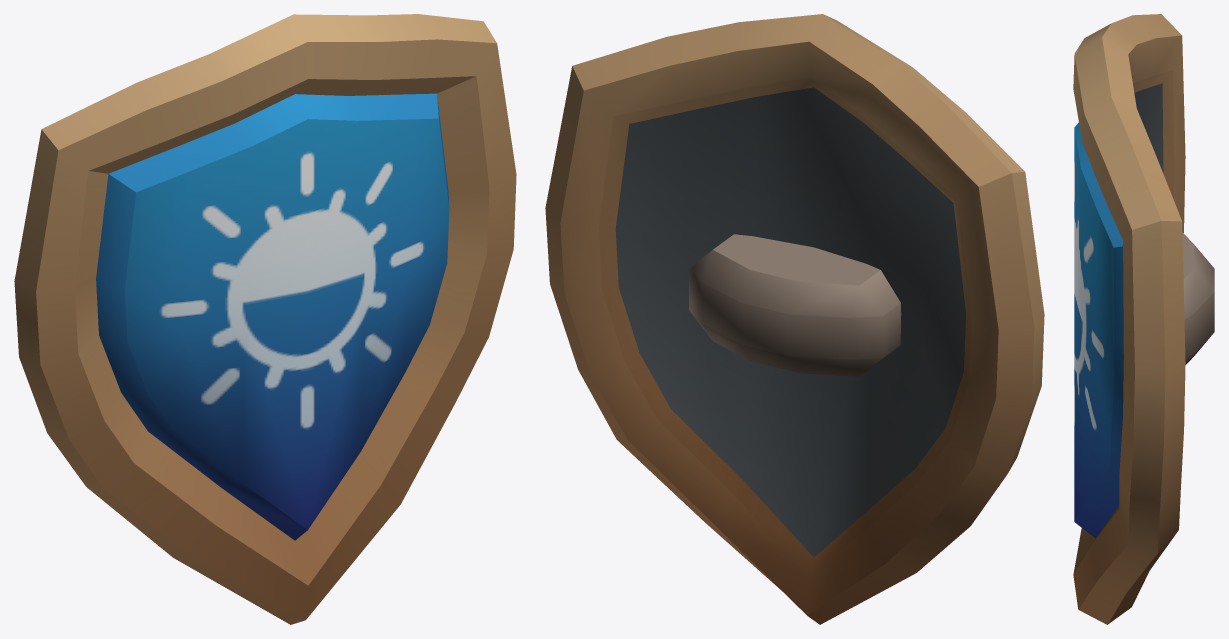
File: paladin-shield.glb
The picture shows the model from 3 angles, left to right: view 1: azimuth 30°, elevation 25°; view 2: azimuth 150°, elevation 25°; view 3: azimuth 270°, elevation 25°; orthographic projection. The views are drawn at different scales.
Visible parts, largest first — view 1: paladin_shield; view 2: paladin_shield; view 3: paladin_shield.
Boxes of the visible parts, x1,y1,x2,y2 form: paladin_shield: (14,14,516,624); paladin_shield: (545,14,1044,624); paladin_shield: (1073,14,1214,624).
Bounding box in the file's own units: 0.806 × 0.9592 × 0.2091.
Materials: 2 (2 with a texture image).
